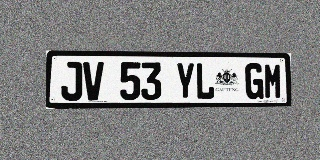3: (141, 62, 161, 100)
5: (120, 62, 140, 100)
G: (245, 63, 263, 99)
J: (61, 62, 82, 101)
L: (195, 63, 214, 100)
M: (264, 63, 282, 99)
V: (83, 62, 104, 100)
Y: (175, 62, 195, 100)
